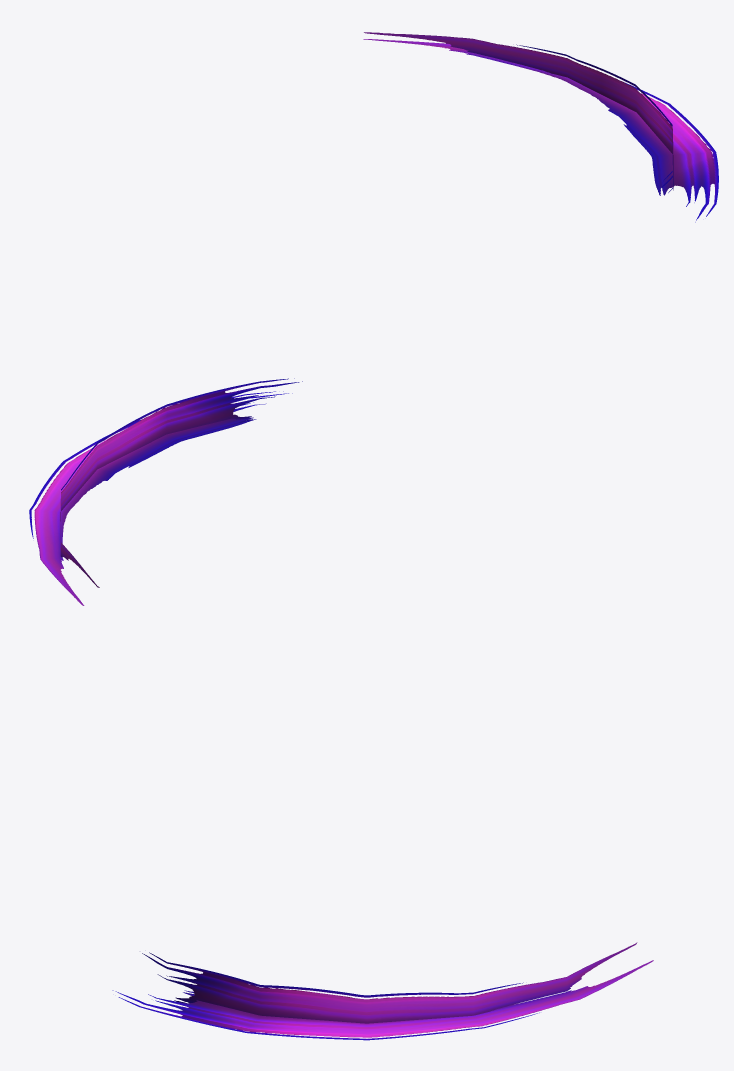
The model's file is yhdaog01.FBX.
The picture shows the model from 3 angles, top to bottom: view 1: azimuth 30°, elevation 25°; view 2: azimuth 150°, elevation 25°; view 3: azimuth 270°, elevation 25°; orthographic projection.
Parts seen in each view (by area): view 1: yuanhudaog01; view 2: yuanhudaog01; view 3: yuanhudaog01.
Boxes of the visible parts, x1=… form: yuanhudaog01: x1=363, y1=32, x2=718, y2=222; yuanhudaog01: x1=29, y1=378, x2=302, y2=605; yuanhudaog01: x1=112, y1=942, x2=653, y2=1040.
Size of the model in its own units: 3.48 by 0.3512 by 3.43.
